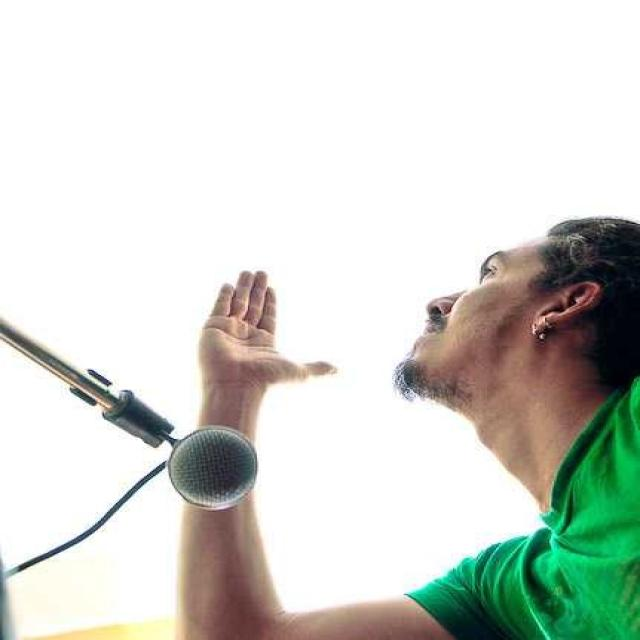microphone: (91, 361, 267, 528)
